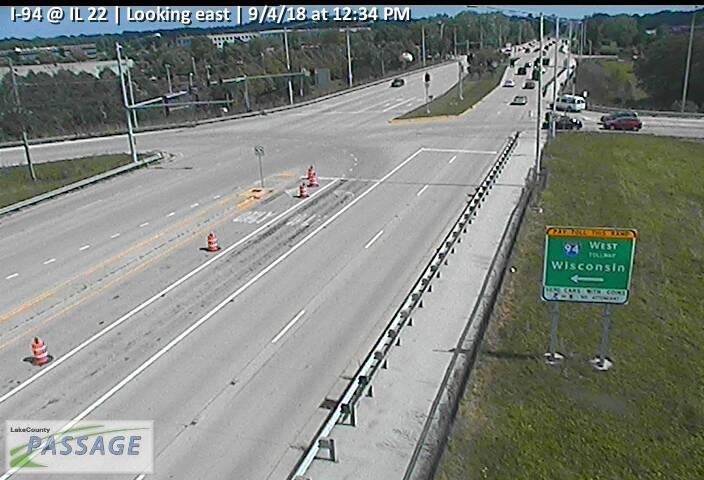SUV: (600, 110, 641, 132), (554, 94, 585, 111)
Sedan: (543, 116, 582, 130), (510, 95, 527, 104), (391, 79, 403, 86), (505, 79, 515, 86), (525, 82, 536, 88), (518, 67, 526, 75)
